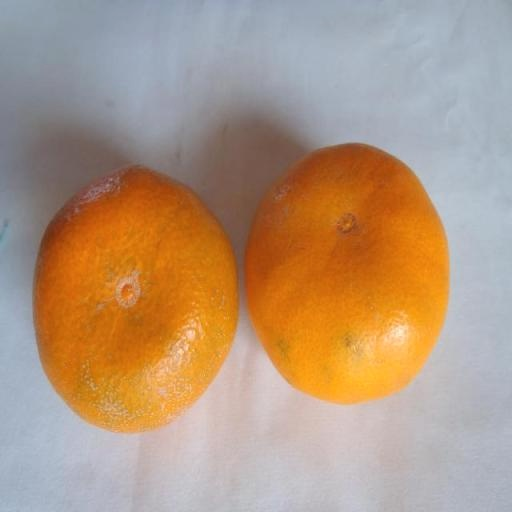fruit: (33, 166, 236, 431), (245, 144, 447, 403)
